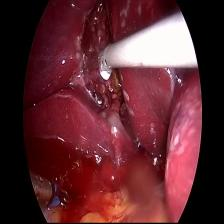Bipolar: (27, 168, 76, 218)
Irrigator: (94, 42, 120, 80)
